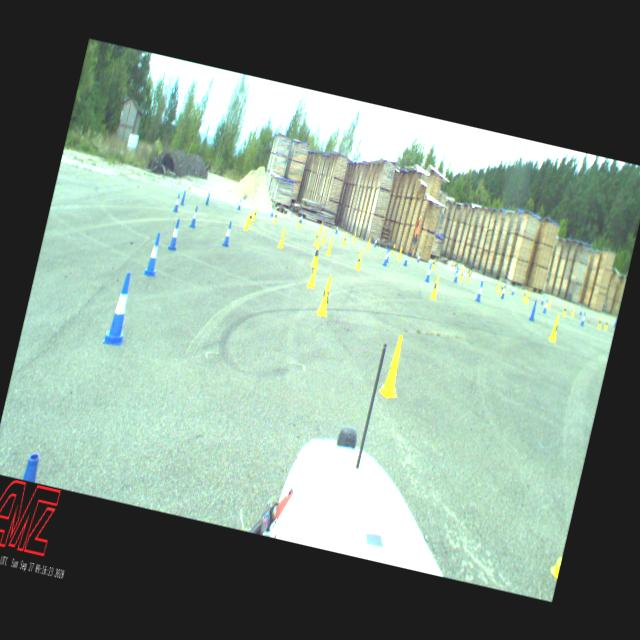blue_cone: (102, 270, 138, 347), (142, 230, 165, 276), (167, 218, 182, 250), (222, 220, 234, 247), (189, 205, 199, 228), (474, 280, 484, 302), (528, 299, 538, 321), (172, 192, 182, 212), (424, 262, 433, 282), (382, 248, 390, 265), (452, 268, 460, 282), (402, 252, 410, 266), (180, 189, 187, 205), (386, 246, 392, 262), (542, 298, 548, 314), (500, 284, 506, 299), (580, 312, 586, 326), (204, 192, 210, 205), (236, 198, 242, 210), (372, 236, 378, 247), (270, 206, 275, 217), (416, 252, 421, 262), (334, 224, 339, 234), (579, 304, 583, 316), (511, 284, 515, 294), (540, 294, 544, 304), (613, 317, 617, 327), (480, 275, 484, 284)
yellow_cone: (377, 334, 410, 399), (315, 274, 335, 316), (306, 256, 321, 288), (548, 314, 562, 342), (430, 274, 441, 300), (310, 242, 320, 266), (354, 248, 364, 270), (277, 226, 287, 248), (325, 235, 334, 255), (243, 212, 251, 230), (313, 229, 321, 246), (320, 228, 327, 244), (248, 208, 254, 224), (498, 282, 504, 296), (342, 232, 348, 245), (272, 210, 278, 223), (466, 269, 472, 282), (596, 317, 602, 329), (562, 304, 568, 316), (430, 257, 436, 269), (251, 208, 257, 220), (366, 238, 372, 250), (318, 220, 324, 232), (525, 290, 530, 304), (546, 298, 552, 309), (297, 215, 302, 228), (522, 289, 527, 301), (397, 247, 402, 259), (458, 269, 463, 281), (495, 280, 500, 292), (391, 243, 396, 254), (570, 306, 575, 317), (604, 318, 608, 329), (352, 231, 356, 242)
